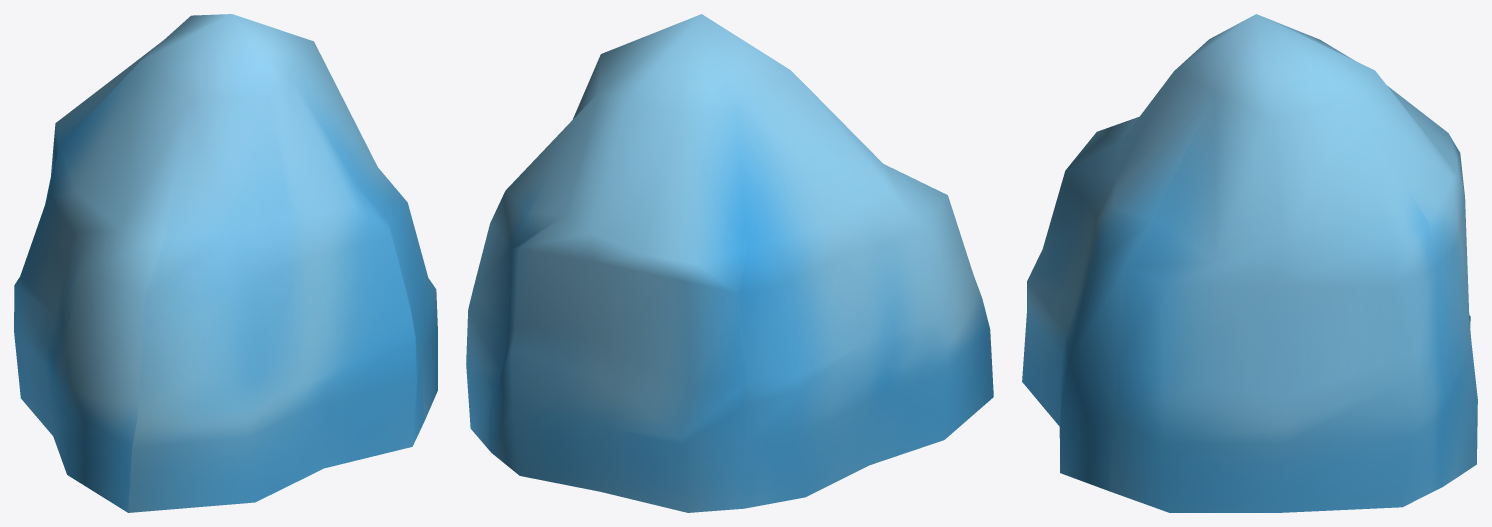
File: ice.fbx
3 renders of one model, left to right at view 1: azimuth 30°, elevation 25°; view 2: azimuth 150°, elevation 25°; view 3: azimuth 270°, elevation 25°, orthographic. The views are drawn at different scales.
Parts seen in each view (by area): view 1: ice_mesh_001; view 2: ice_mesh_001; view 3: ice_mesh_001.
Part boxes in pixels (box(x1,y1,x2,y2)): ice_mesh_001: box(14, 14, 437, 512); ice_mesh_001: box(466, 14, 993, 512); ice_mesh_001: box(1022, 14, 1477, 512).
Bounding box in the file's own units: 163 × 166 × 166.
